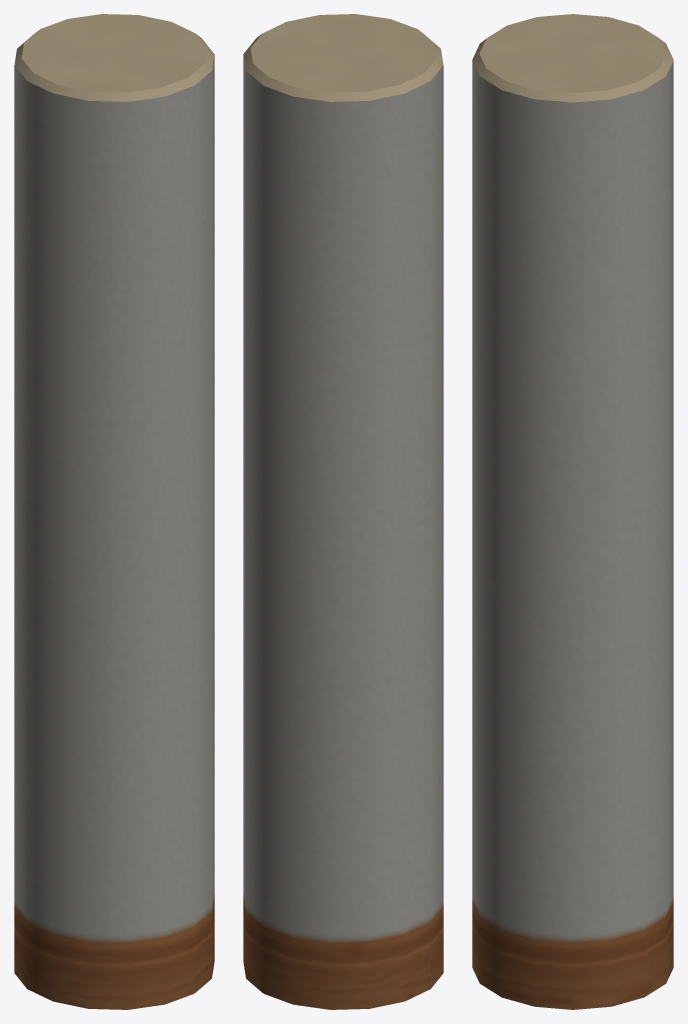
The model's file is column4_1.fbx.
The picture shows the model from 3 angles, left to right: view 1: azimuth 30°, elevation 25°; view 2: azimuth 150°, elevation 25°; view 3: azimuth 270°, elevation 25°; orthographic projection.
Visible parts, largest first — view 1: column4_a; view 2: column4_a; view 3: column4_a.
Part boxes in pixels (<box>): column4_a: <box>14,14,214,1009</box>; column4_a: <box>243,14,443,1009</box>; column4_a: <box>472,14,673,1009</box>.
Bounding box in the file's own units: 80 × 400 × 80.
